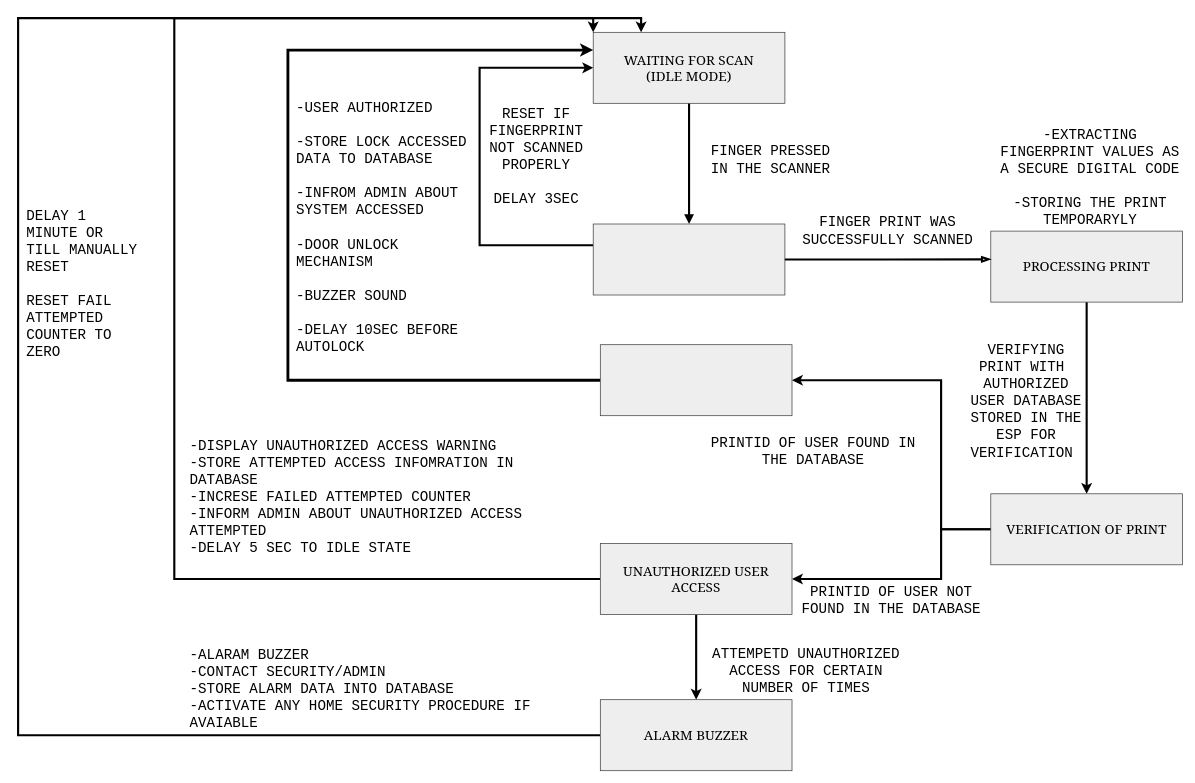
This 1195x783 diagram has some shape labels left out. The shapes that lost their labels are listed below. From the top down, each one's box as (x1, y1, x2, y2) in pixels, then its label:
(592, 223, 785, 295): SCANNING FINGERPRINT
(600, 344, 792, 416): AUTHORIZED USER ACCESS
